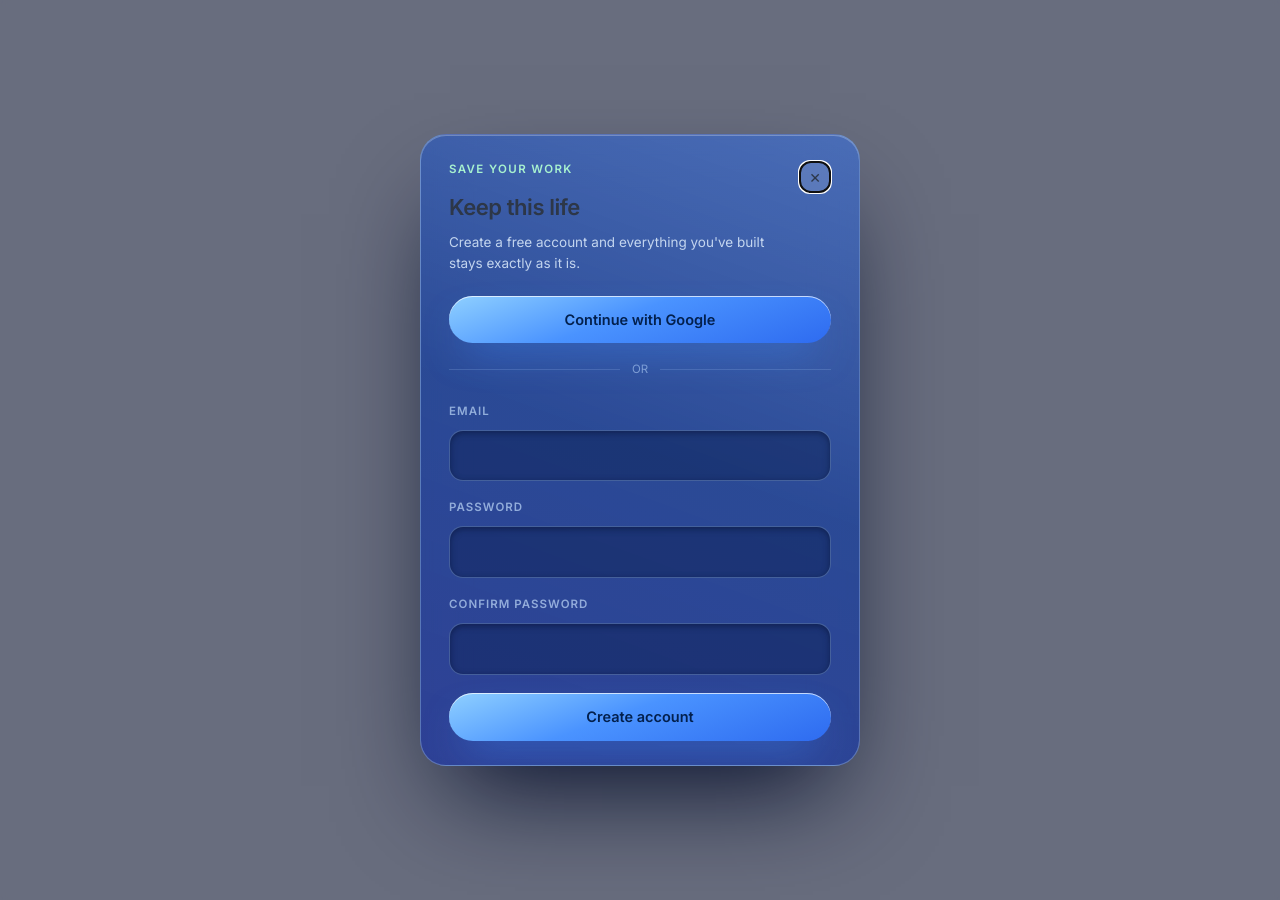
Test: SaveWorkModal - email save › lets the user back out and keep exploring the demo instead of switching accounts
The width and height of the screenshot is (1280, 900).
Type "existing@example.com" into the field labelled "EMAIL" at [640, 455], box [449, 430, 831, 481]
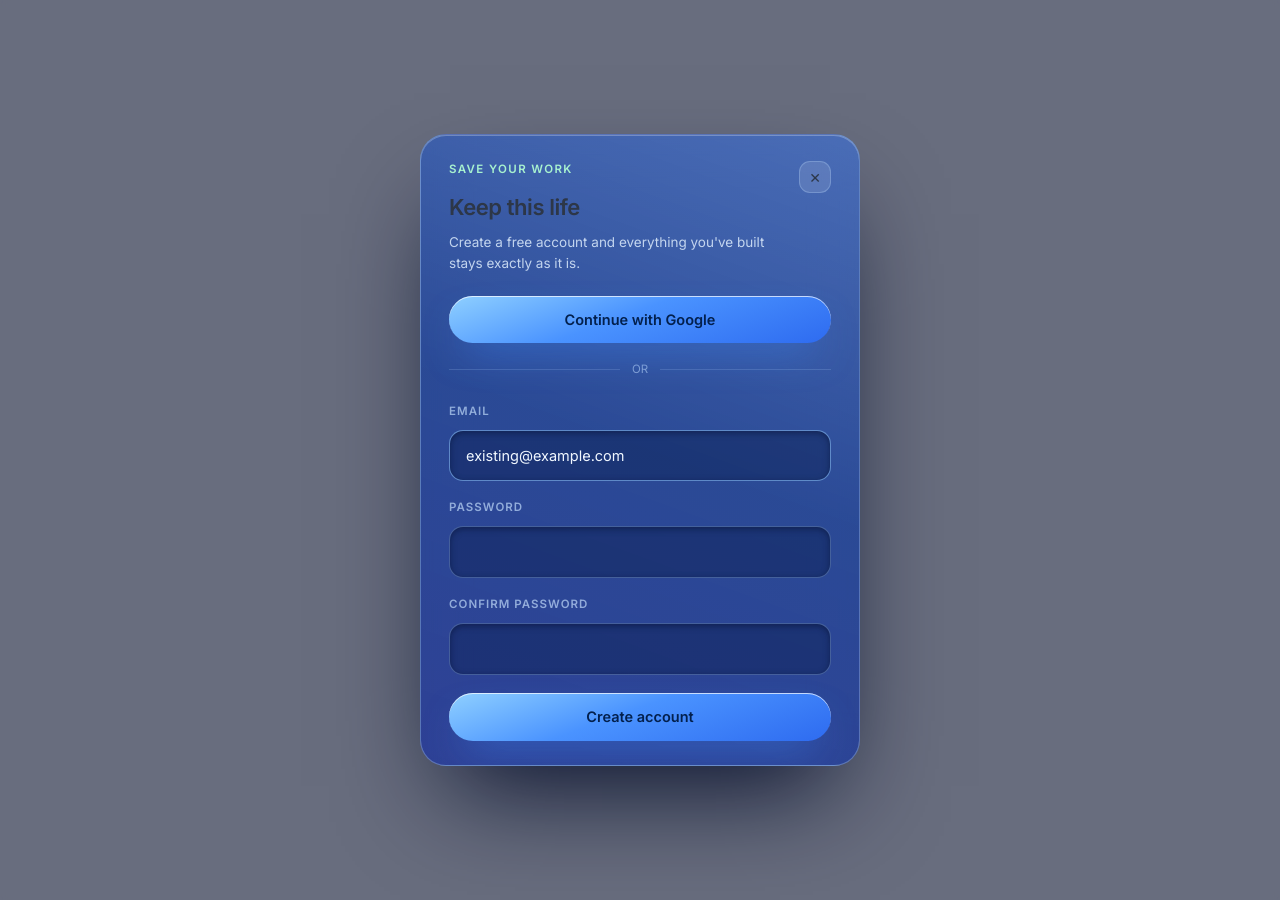
Type "password123" into the password field labelled "PASSWORD" at [640, 552], box [449, 526, 831, 578]
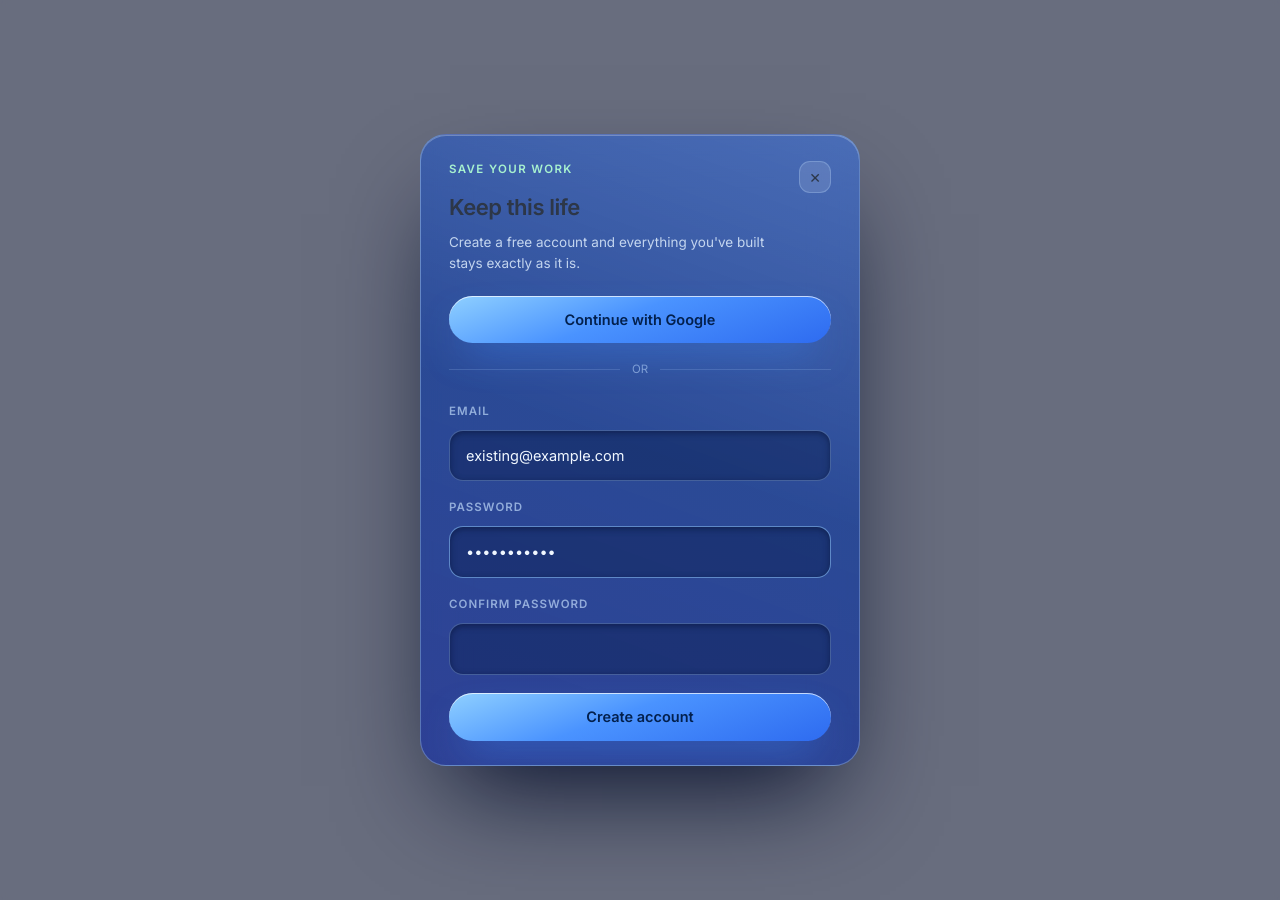
Type "password123" into the password field labelled "CONFIRM PASSWORD" at [640, 649], box [449, 623, 831, 675]
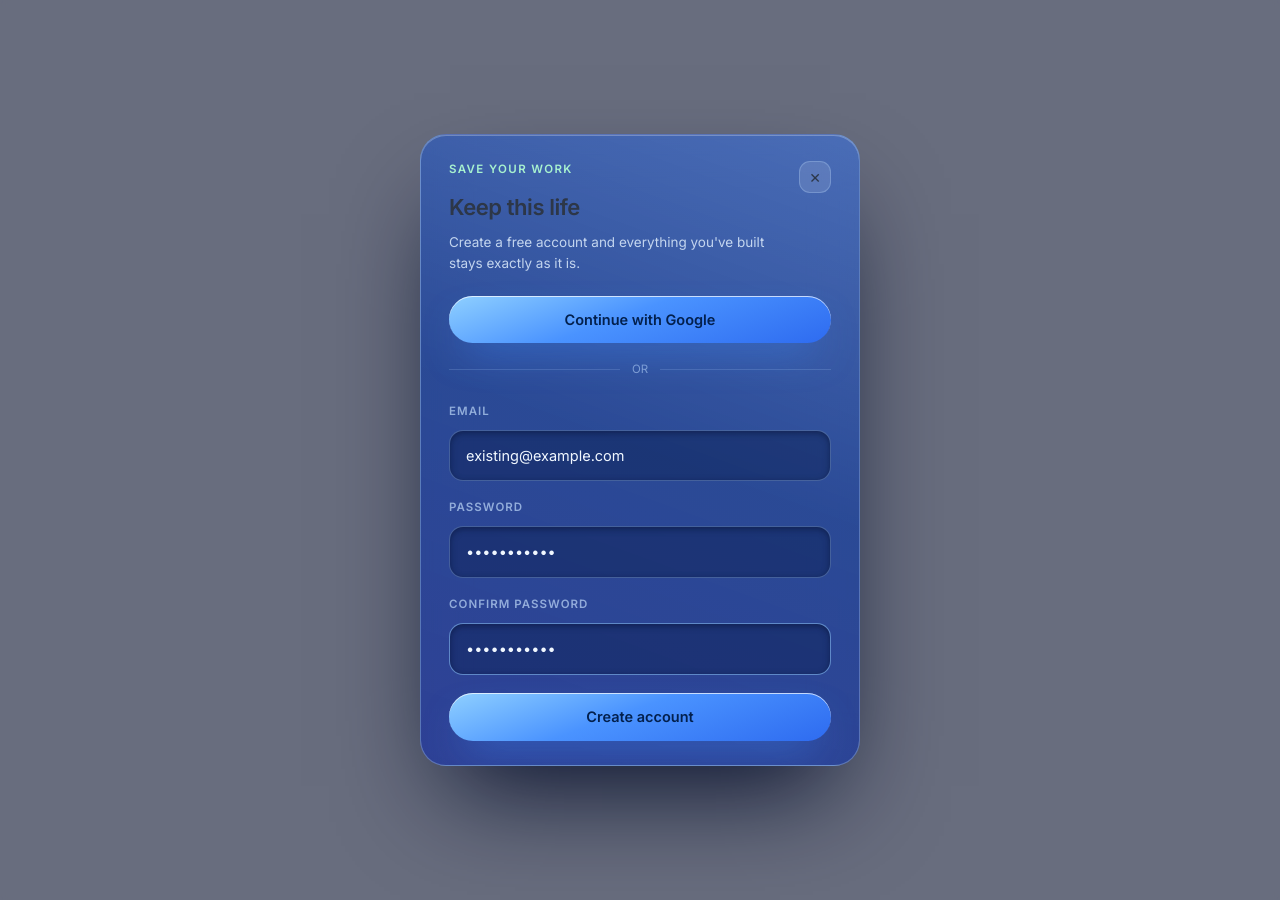
Click the button "Create account" at [640, 717], box [449, 693, 831, 741]
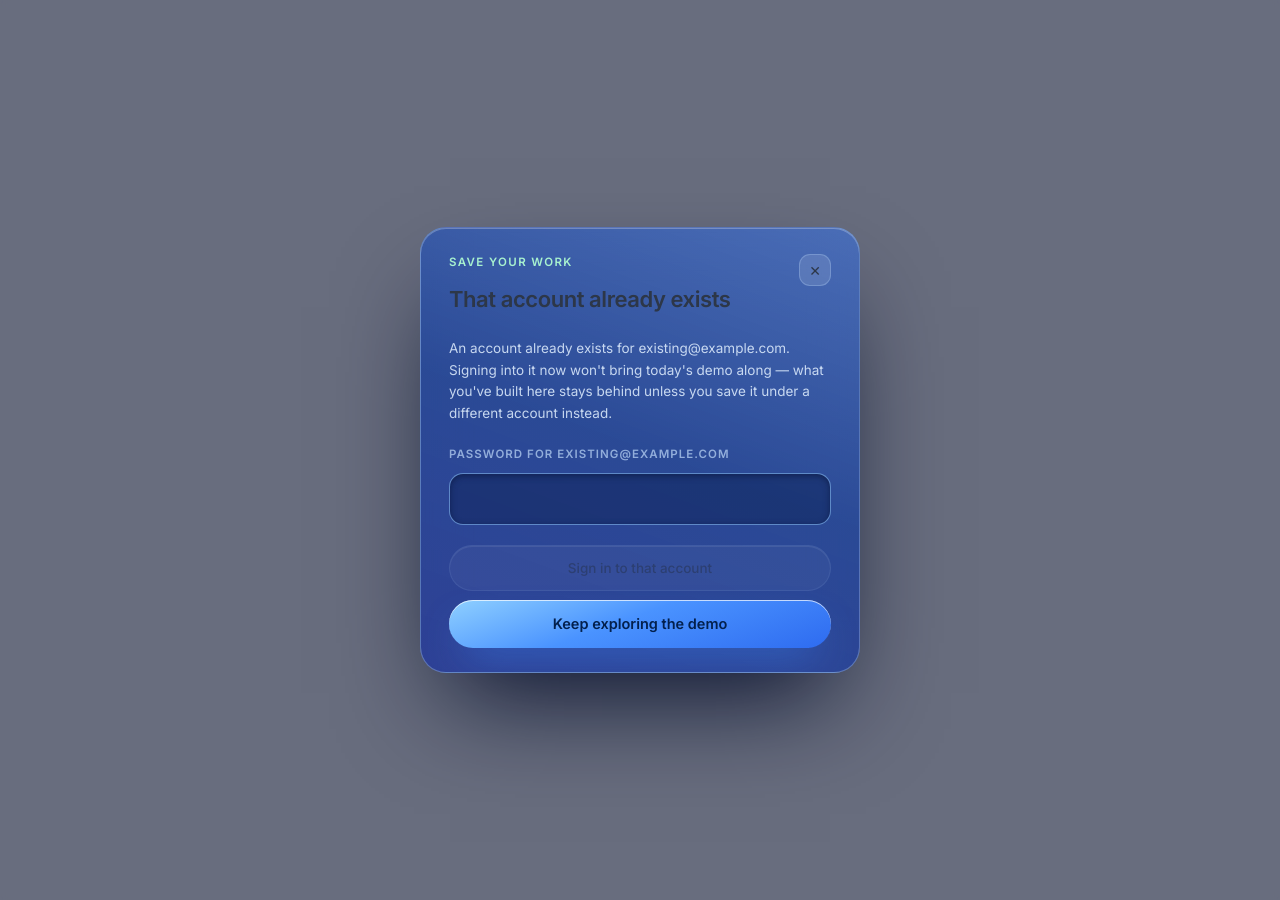
Expected: the text "That account already exists" is shown, [449, 283, 730, 316]
Click the button "Keep exploring the demo" at [640, 624], box [449, 600, 831, 648]
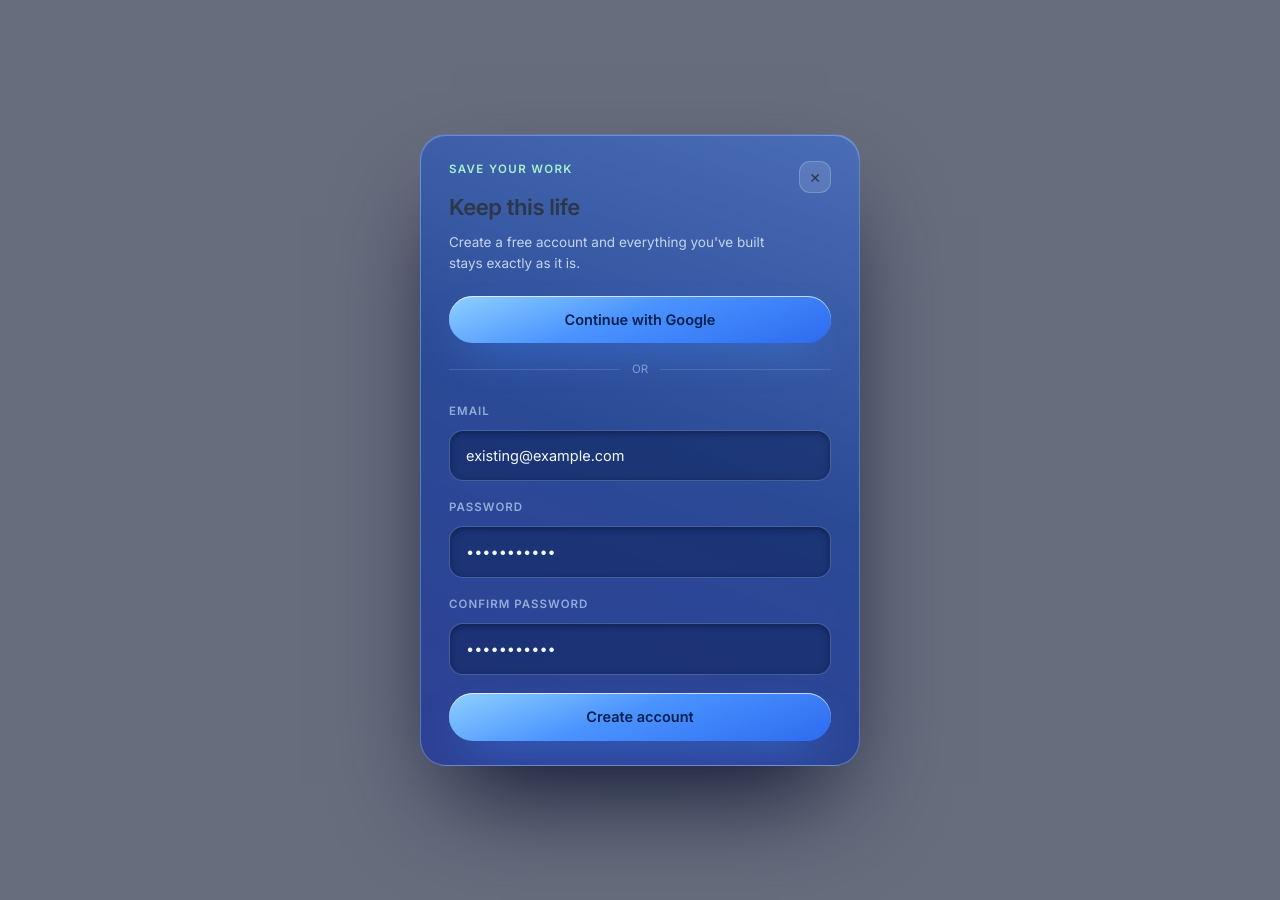
Expected: the button "Continue with Google" is shown, [449, 296, 831, 343]
